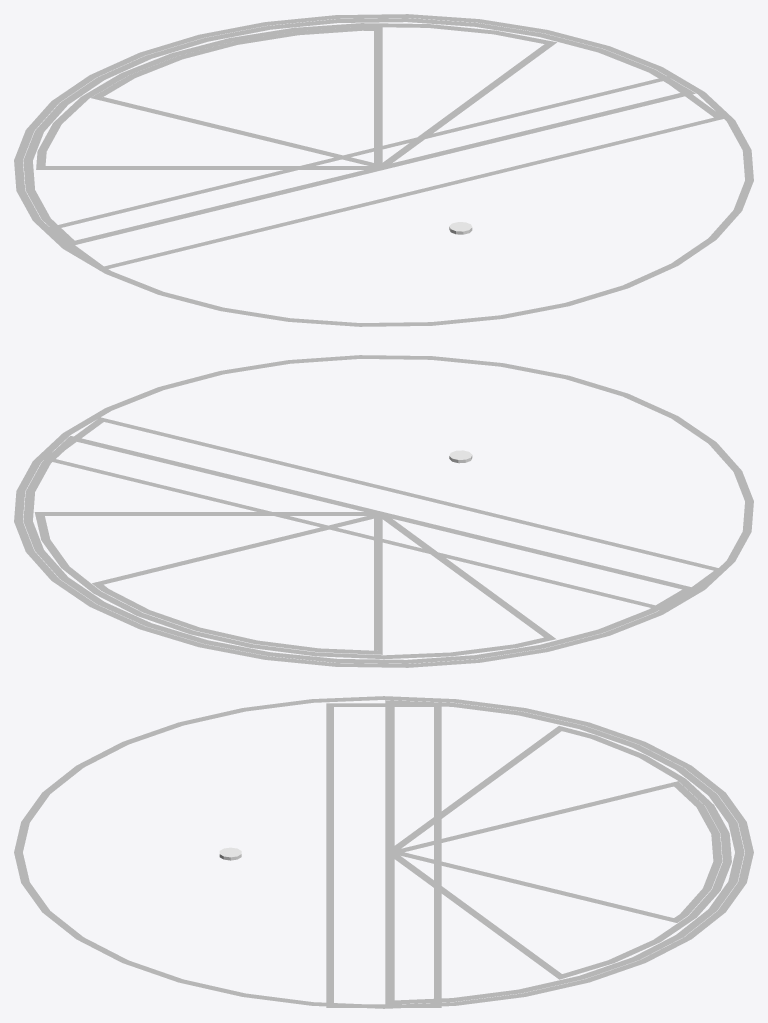
Rendered from circles2.obj.
3 renders of one model, top to bottom at view 1: azimuth 30°, elevation 25°; view 2: azimuth 150°, elevation 25°; view 3: azimuth 270°, elevation 25°, orthographic.
Parts seen in each view (by area): view 1: circle_Circle.000, 180_Circle.001, 120_Plane.002, cube.001_Plane.016, 60_Plane.009; view 2: circle_Circle.000, 180_Circle.001, 120_Plane.002, cube.001_Plane.016, 60_Plane.009; view 3: circle_Circle.000, 180_Circle.001, 120_Plane.002, cube.001_Plane.016, 60_Plane.009.
Part boxes in pixels (x1,y1,x2,y2): circle_Circle.000: (14,14,753,326); 180_Circle.001: (23,18,695,246); 120_Plane.002: (36,23,556,169); cube.001_Plane.016: (49,76,723,268); 60_Plane.009: (91,27,382,169); circle_Circle.000: (14,355,753,667); 180_Circle.001: (23,435,695,663); 120_Plane.002: (34,512,556,659); cube.001_Plane.016: (44,417,718,609); 60_Plane.009: (92,512,382,654); circle_Circle.000: (14,696,753,1008); 180_Circle.001: (385,700,744,1004); 120_Plane.002: (386,726,731,979); cube.001_Plane.016: (326,703,441,1007); 60_Plane.009: (387,781,722,922).
Size of the model in its own units: 3.88 by 0.0194 by 3.88.
